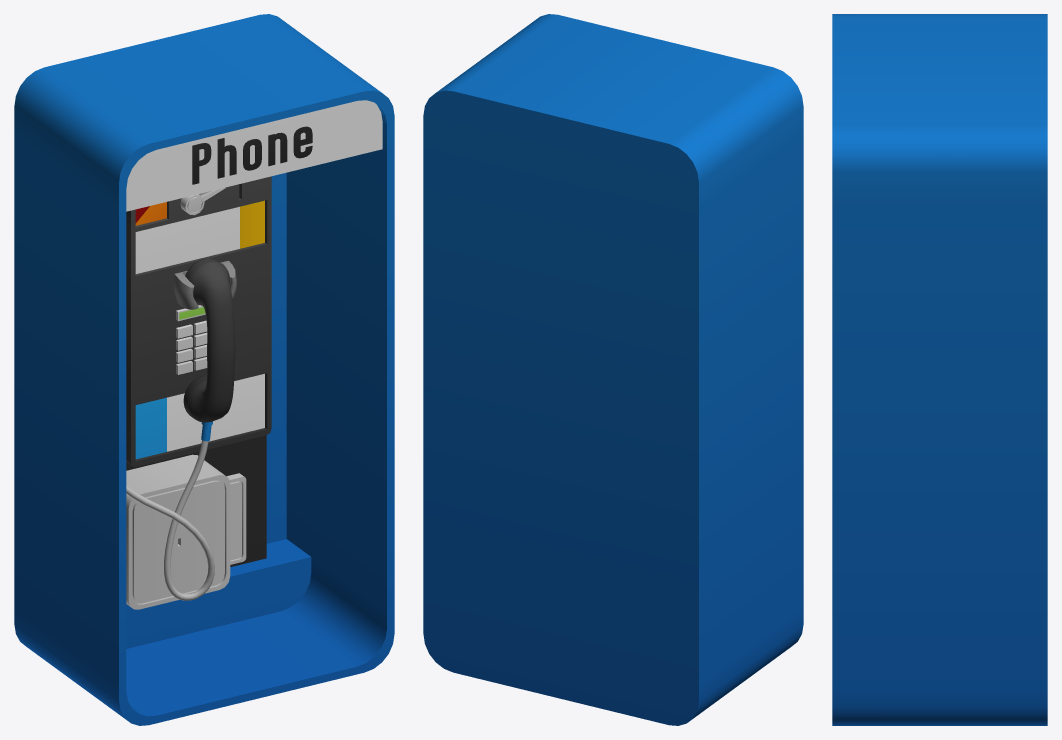
Rendered from payphone_wall.glb.
The picture shows the model from 3 angles, left to right: view 1: azimuth 30°, elevation 25°; view 2: azimuth 150°, elevation 25°; view 3: azimuth 270°, elevation 25°; orthographic projection. The views are drawn at different scales.
Parts seen in each view (by area): view 1: payphone_wall; view 2: payphone_wall; view 3: payphone_wall.
Part boxes in pixels (x1,y1,x2,y2): payphone_wall: (14,14,394,725); payphone_wall: (423,14,803,725); payphone_wall: (832,14,1047,725).
Bounding box in the file's own units: 0.3708 × 0.7478 × 0.2438.
3 materials, 3 textured.
